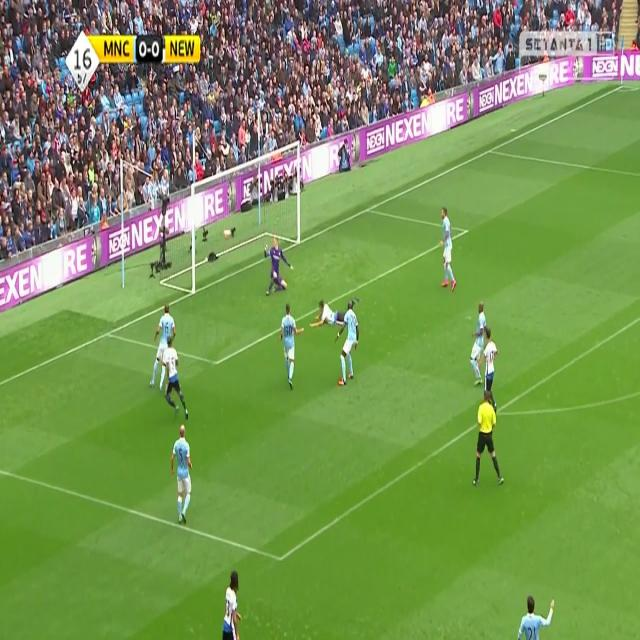Ball: (220, 226, 233, 240)
Goalkeeper: (263, 236, 295, 302)
Player: (158, 338, 191, 421), (148, 302, 176, 391), (170, 422, 194, 525), (280, 301, 306, 392), (335, 300, 359, 386), (513, 595, 556, 640), (438, 204, 459, 292), (468, 296, 486, 387), (220, 567, 242, 640), (478, 327, 499, 388), (309, 298, 346, 329)
Referee: (472, 388, 506, 490)
